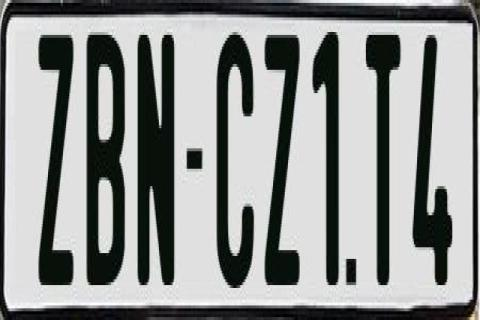0: (409, 29, 456, 285), (312, 27, 340, 280)
B: (84, 35, 128, 303)
C: (214, 32, 252, 306)
N: (136, 35, 178, 288)
T: (366, 26, 404, 282)
Z: (263, 32, 305, 291), (35, 29, 73, 288)
